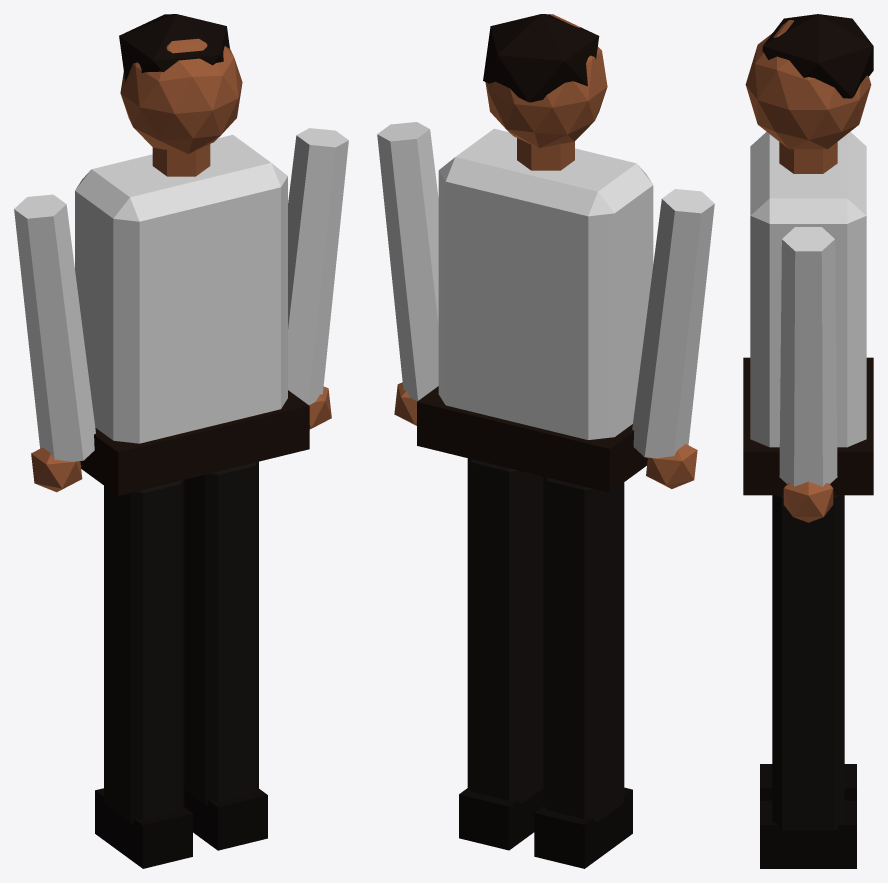
The model's file is person.fbx.
3 views of the same model, side by side, from view 1: azimuth 30°, elevation 25°; view 2: azimuth 150°, elevation 25°; view 3: azimuth 270°, elevation 25° (orthographic).
Parts seen in each view (by area): view 1: person; view 2: person; view 3: person.
Boxes of the visible parts, x1,y1,x2,y2 form: person: [14, 14, 348, 868]; person: [377, 14, 714, 868]; person: [743, 14, 873, 868].
Size of the model in its own units: 0.7734 by 1.88 by 0.27.
